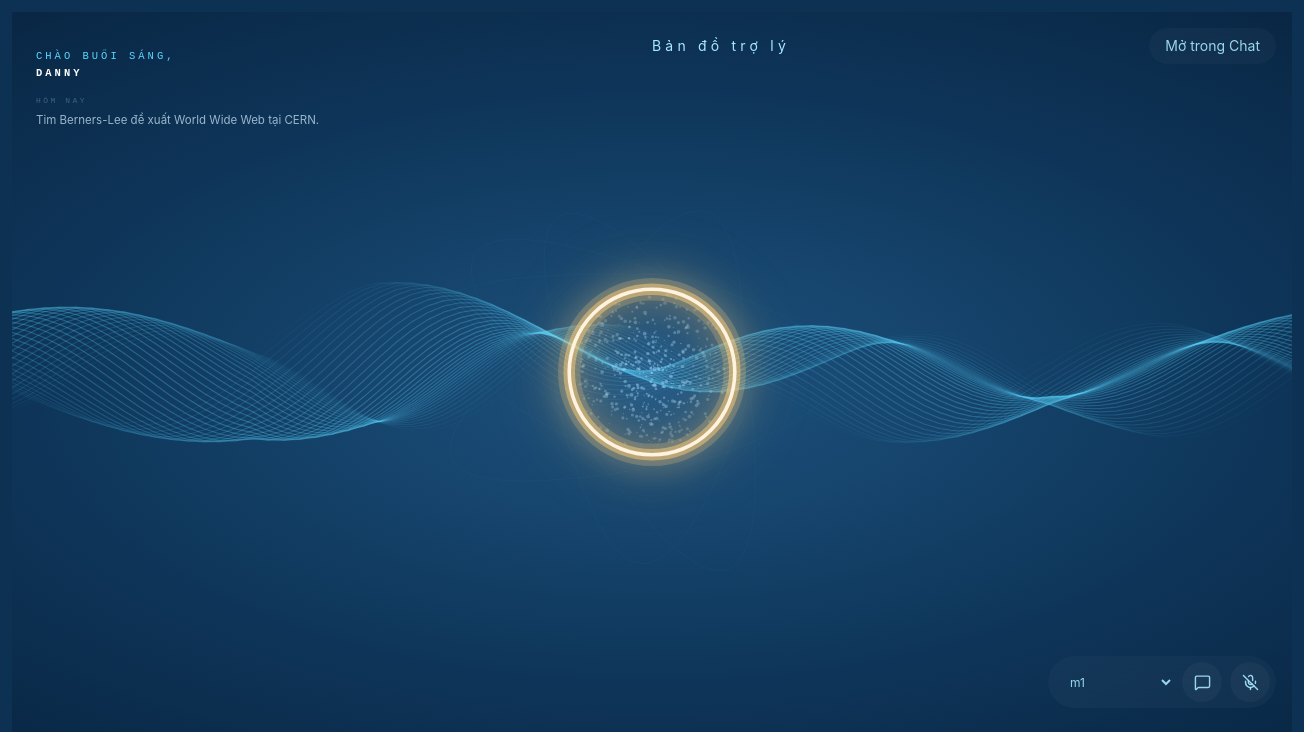
ConstellationClient — bảng không nhân bản theo chunk › frame view giữa stream, còn nhiều chunk theo sau → chỉ 1 bảng trong transcript
Click the button named "Trò chuyện" at point(1202, 682), box top-left (1182, 662), bottom-right (1222, 702)
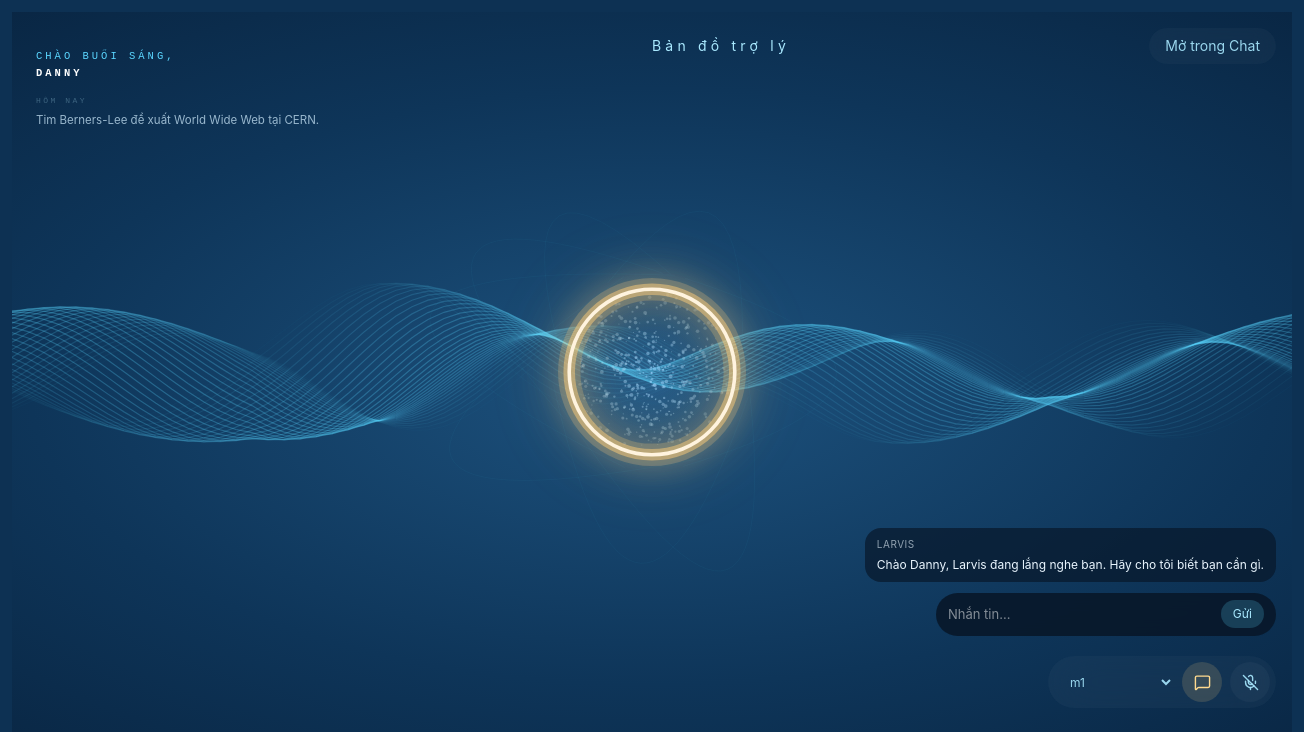
Check: the field with placeholder "Nhắn tin…" is shown
Type "lượt 1" into the field with placeholder "Nhắn tin…" at point(1080, 614), box top-left (948, 596), bottom-right (1213, 632)
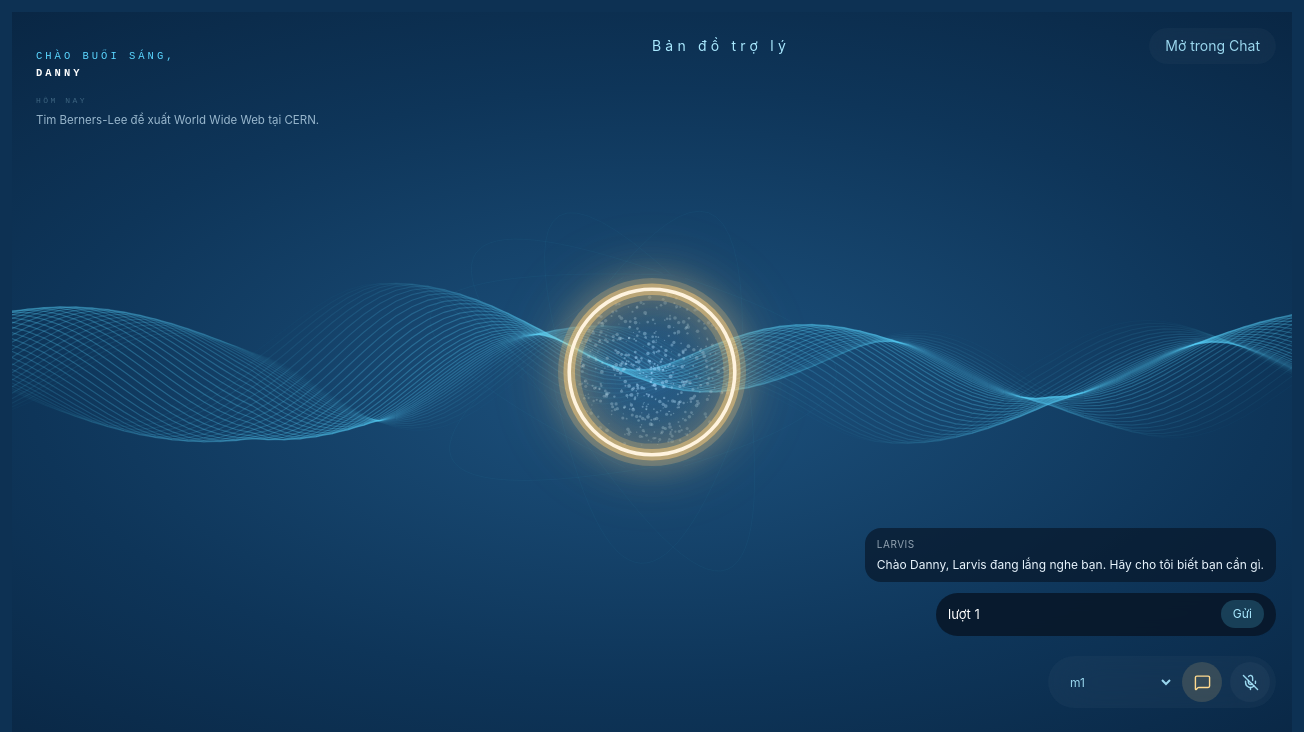
Press Enter in the field with placeholder ".", box top-left (948, 596), bottom-right (1213, 632)
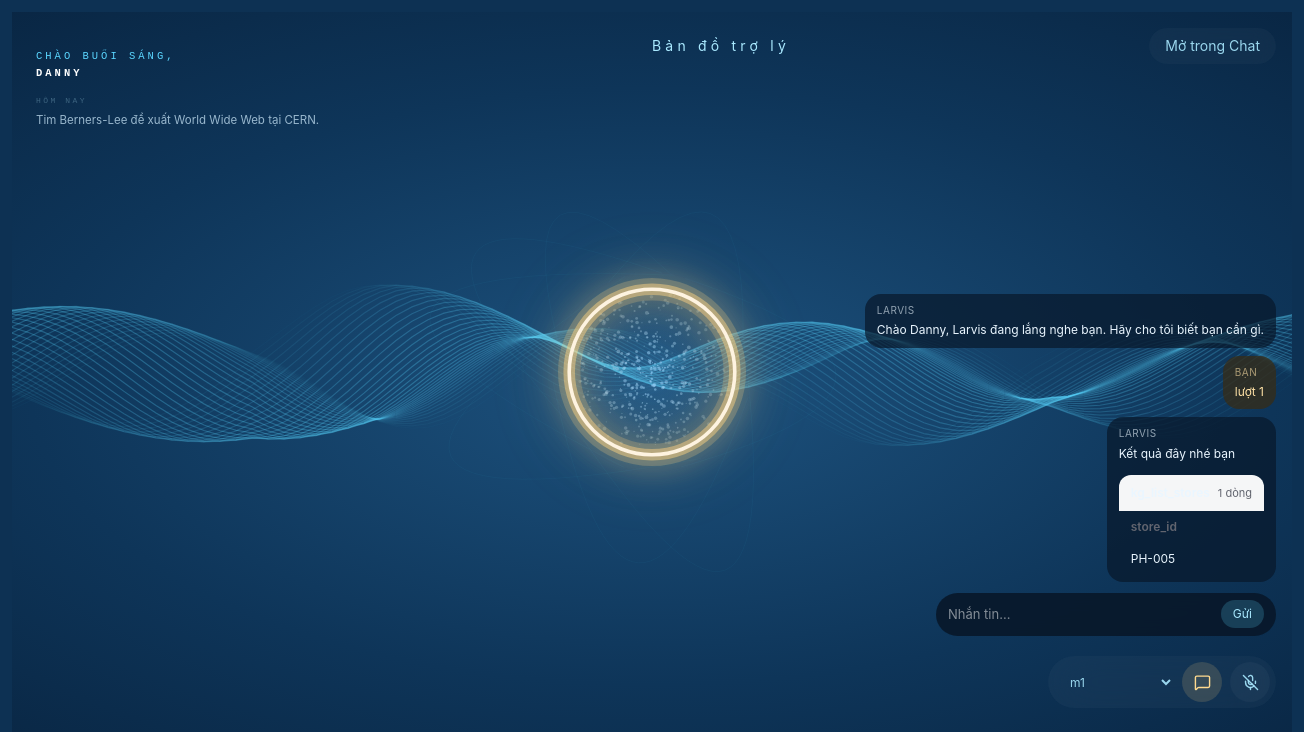
Check: the element showing "kg_list_stores 1 dòng store_id PH-005" is shown, box top-left (1119, 475), bottom-right (1264, 574)
